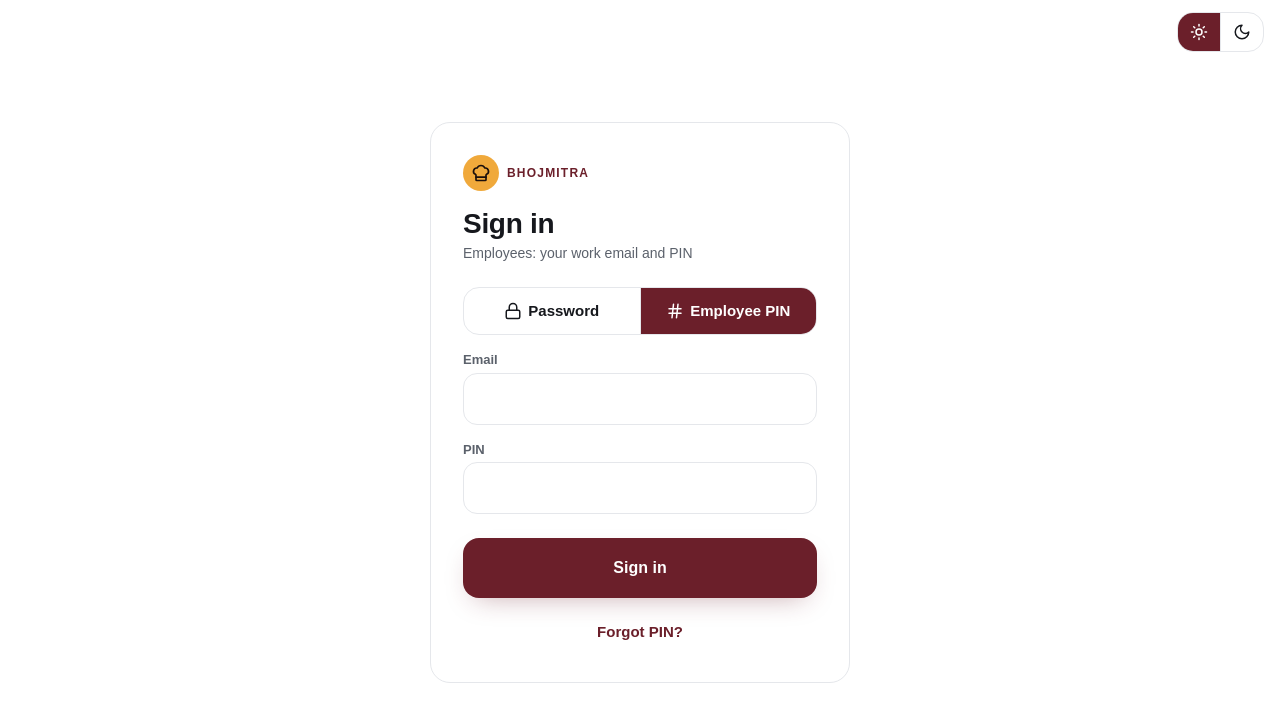
Test case: restaurant console › employee signs in with email + PIN and sees only what a chef may use
Expected: the text "Employees: your work email and PIN" is shown, [463,245,692,261]
Type "ravi@demo.test" into the field with test id "login-email". click: (640, 399)
box: [463,373,817,425]
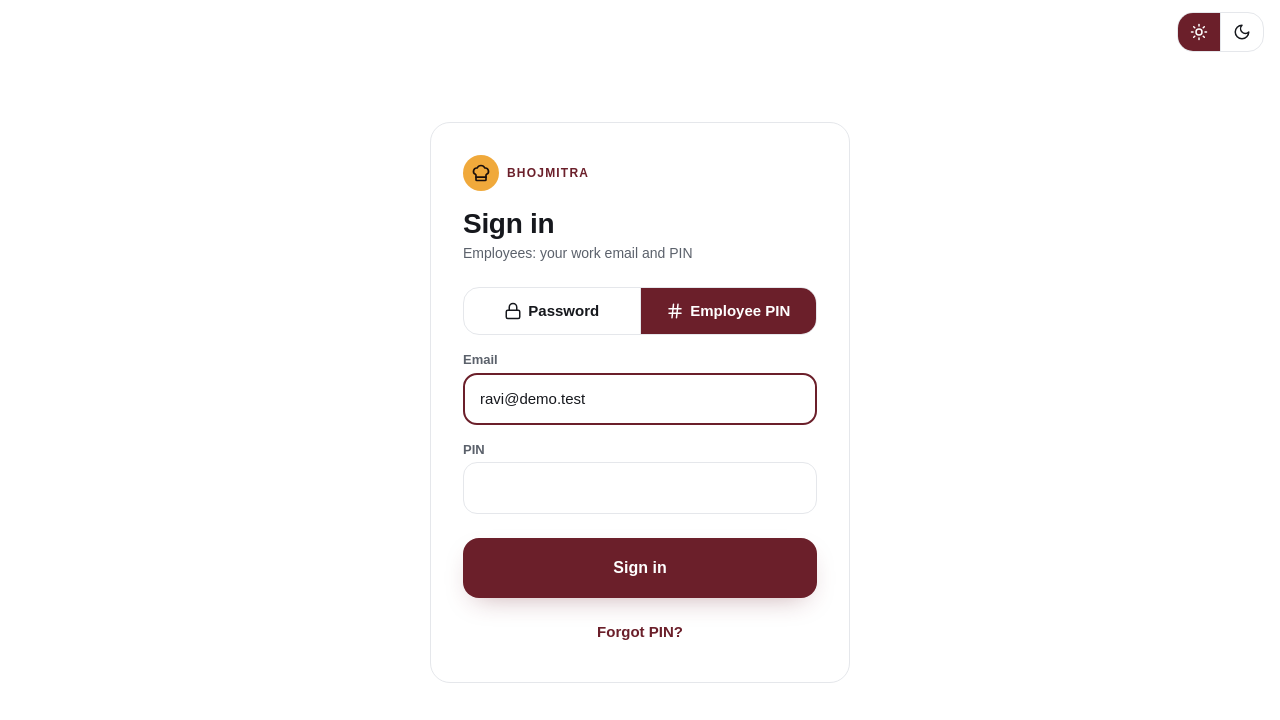
Type "24a6813" into the password field with test id "login-pin". click: (640, 488)
box: [463,462,817,514]
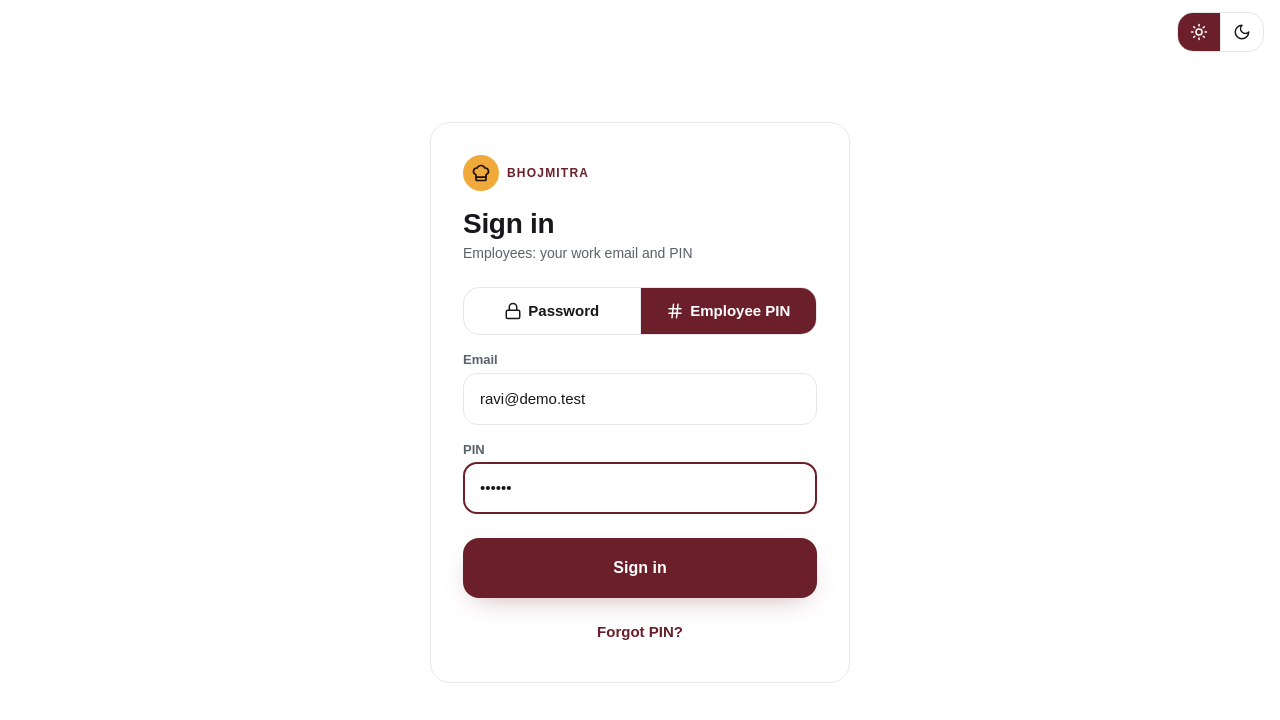
Click the button with test id "login-submit". click: (640, 568)
box: [463,538,817,598]
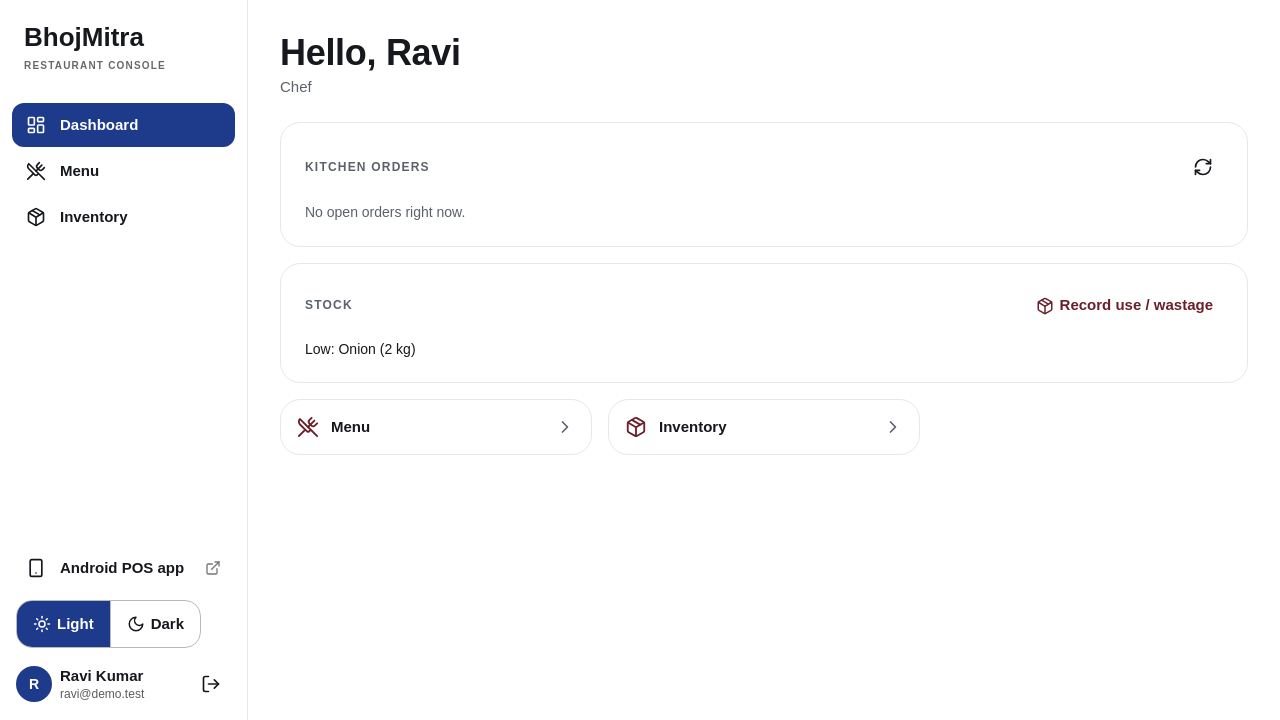
Now the heading "Hello, Ravi" is shown, box [280,32,461,73]
Now the text "Kitchen orders" is shown, box [305,160,430,174]
Now the text "Low: Onion (2 kg)" is shown, box [305,340,416,356]
